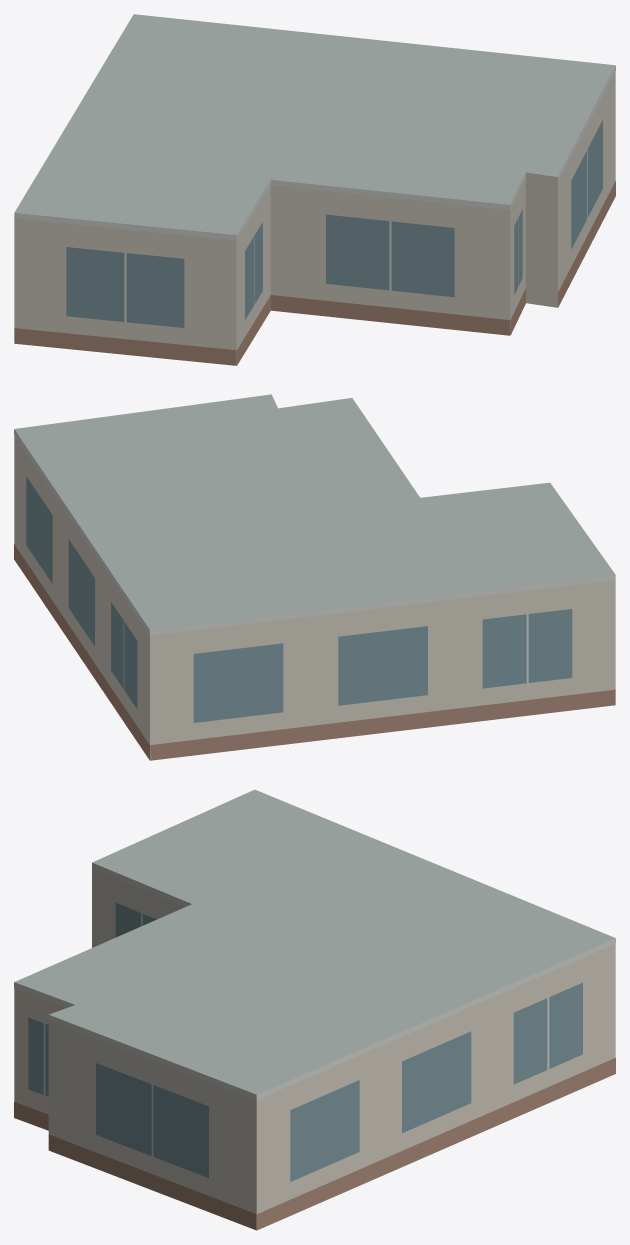
Rendered from survey-upis-32734993.glb.
3 views of the same model, one above another, from view 1: azimuth 30°, elevation 25°; view 2: azimuth 150°, elevation 25°; view 3: azimuth 270°, elevation 25° (orthographic). The views are drawn at different scales.
Parts seen in each view (by area): view 1: survey-upis-32734993.tmp; view 2: survey-upis-32734993.tmp; view 3: survey-upis-32734993.tmp.
Part boxes in pixels (x1,y1,x2,y2): survey-upis-32734993.tmp: (14, 14, 615, 365); survey-upis-32734993.tmp: (14, 394, 615, 760); survey-upis-32734993.tmp: (14, 789, 615, 1230).
Bounding box in the file's own units: 14.72 × 3.05 × 12.26.
